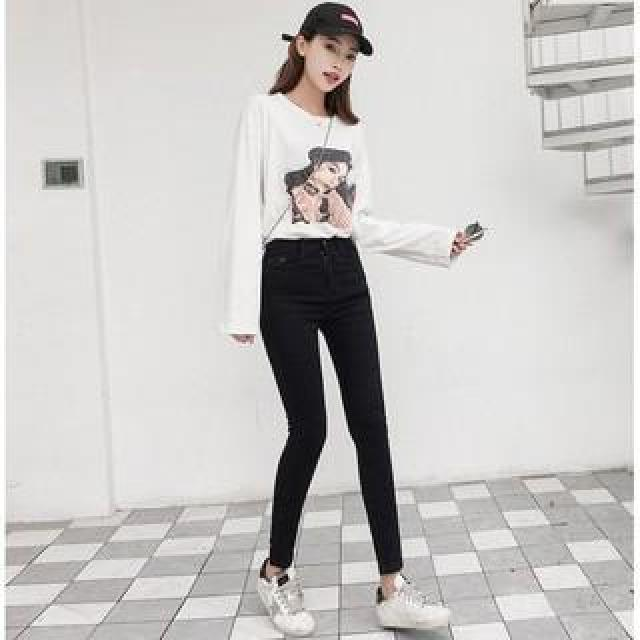pants: (248, 233, 410, 577)
sweater: (232, 90, 454, 344)
